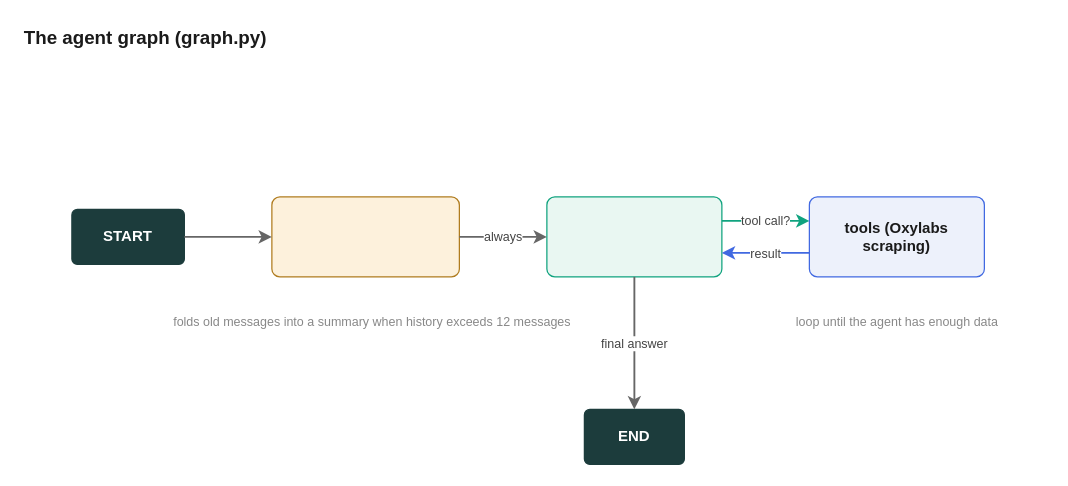
Image size: 1068x486. Some labels were removed from this diagram. Here are the shapes that lost their labels. From the top down, the centre of each, then its label:
At (x=365, y=236): "summarize (short-term memory)".
At (x=634, y=236): "agent (LLM + tools bound)".
